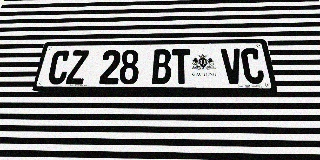2: (99, 50, 121, 84)
8: (119, 50, 140, 84)
B: (152, 49, 171, 84)
C: (240, 48, 265, 84), (46, 50, 71, 84)
T: (172, 49, 191, 84)
V: (221, 48, 244, 84)
Z: (65, 50, 89, 84)
